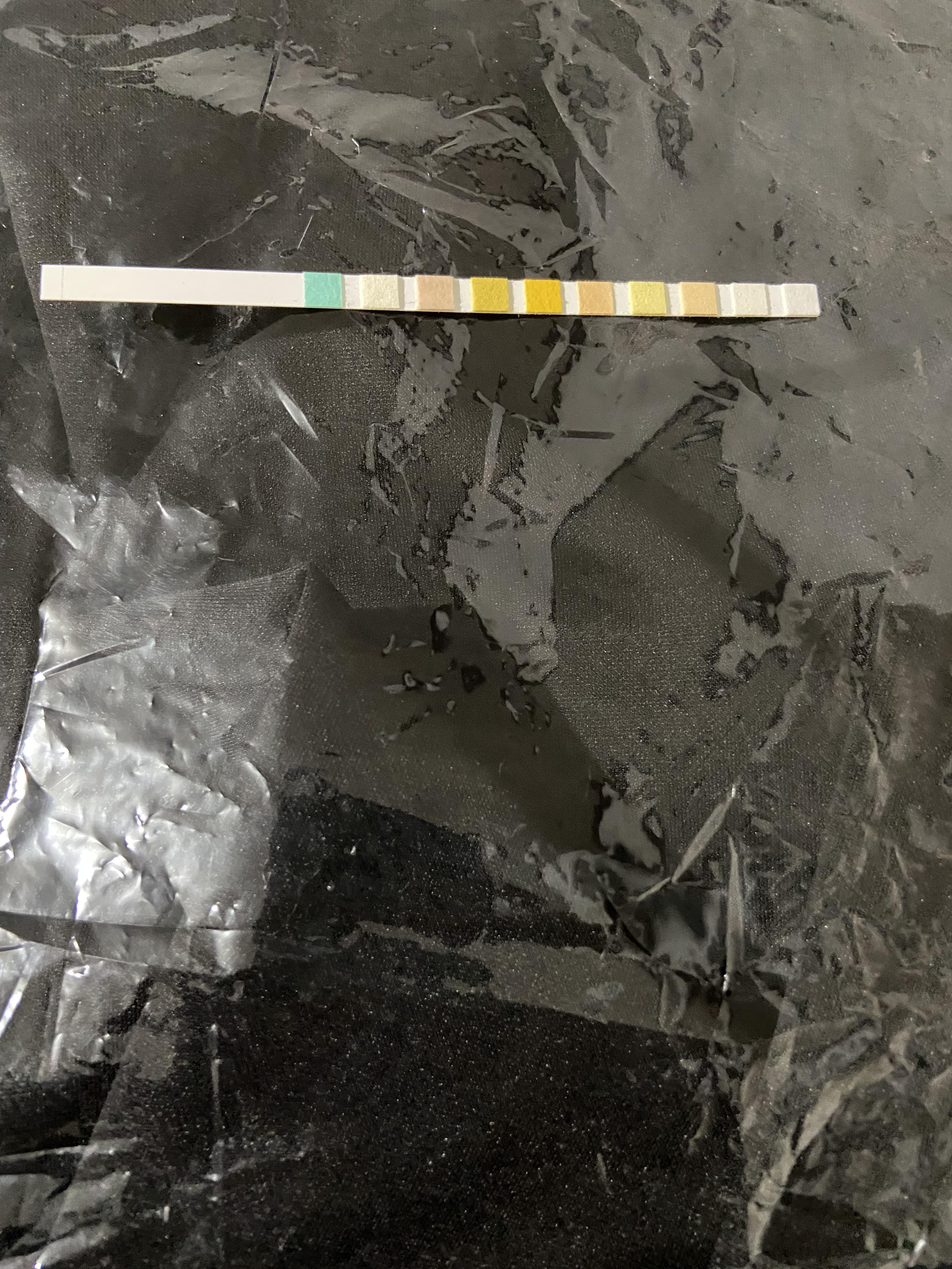Bilirubin: (362, 275, 398, 307)
Blood: (527, 280, 560, 312)
Glucose: (305, 273, 342, 307)
Ketone: (418, 276, 453, 309)
Leukocytes: (787, 284, 815, 314)
Nitrite: (736, 284, 765, 314)
Protein: (632, 282, 663, 313)
SpGravity: (473, 278, 508, 310)
Urobilinogen: (683, 283, 714, 314)
pH: (579, 282, 611, 314)
strip: (40, 265, 821, 316)
